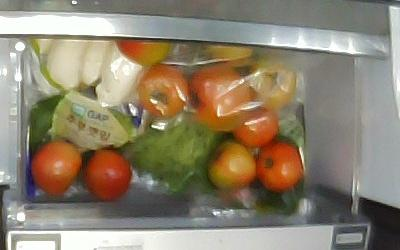tomato: (30, 140, 81, 195), (204, 139, 256, 190), (257, 137, 304, 192), (83, 149, 132, 200), (115, 39, 176, 66)
tomato_vinyl: (189, 62, 251, 132), (138, 62, 189, 118), (246, 57, 297, 111), (232, 105, 279, 146), (203, 45, 253, 68)
